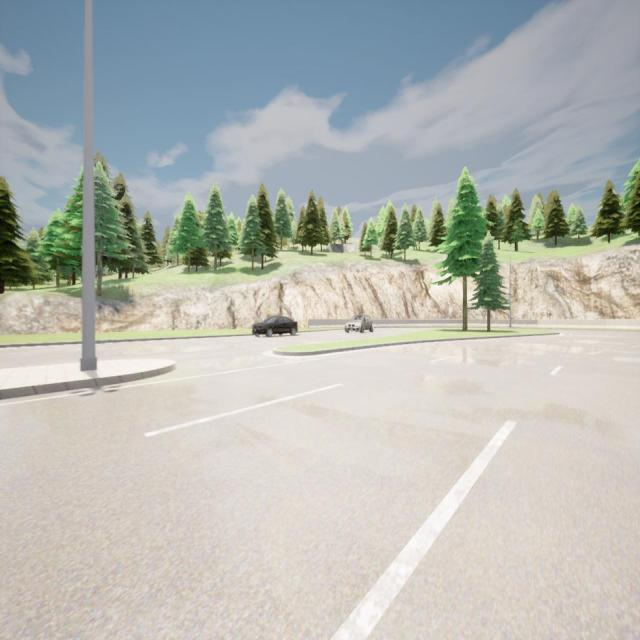Vehicle: (252, 315, 298, 336), (344, 313, 374, 333)
